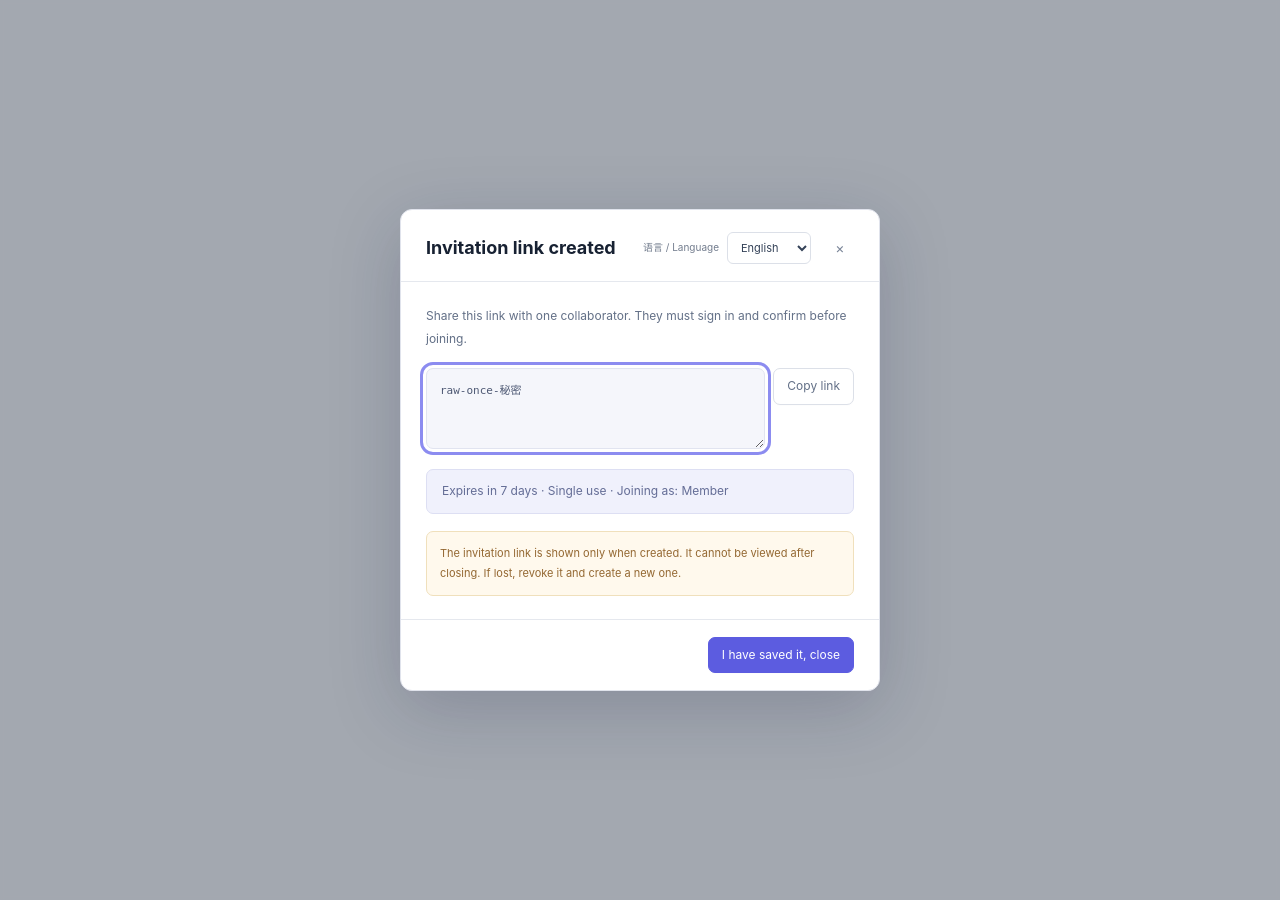
Test: authentication language changes › retranslates invitation copy failures and close warnings while keeping the one-time value
The width and height of the screenshot is (1280, 900).
Click the button "Copy link" at (814, 387), box [773, 368, 854, 405]
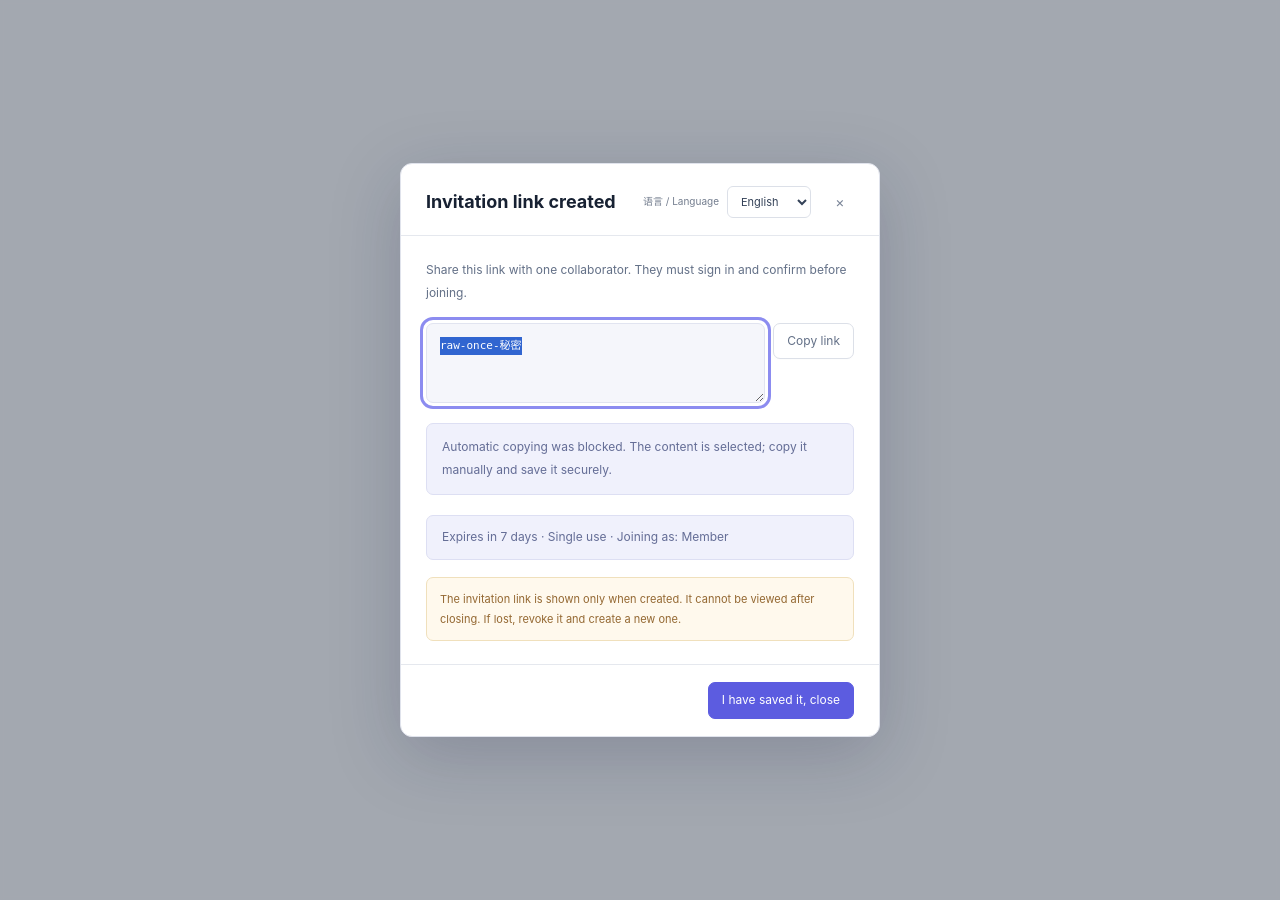
Result: the text "Automatic copying was blocked. The content is selected; copy it manually and save it securely." is shown at [442, 440, 807, 477]
Click the button named "Close dialog" at (840, 202), box [826, 188, 854, 216]
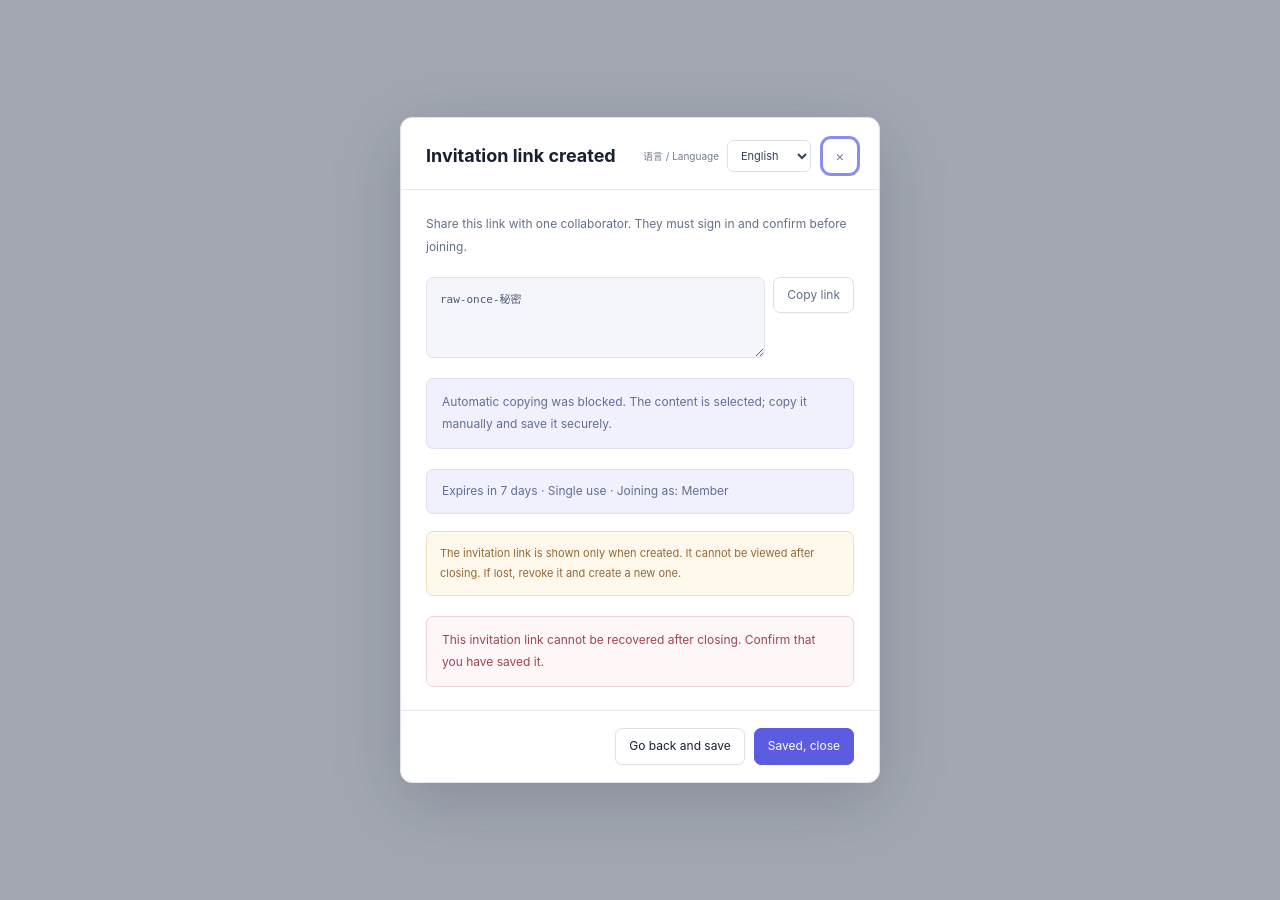
Result: the 2nd message shows "This invitation link cannot be recovered after closing. Confirm that you have saved it." at [442, 632, 815, 669]
Select "简体中文" in the dropdown labelled "语言 / Language" at (769, 156), box [727, 140, 811, 172]
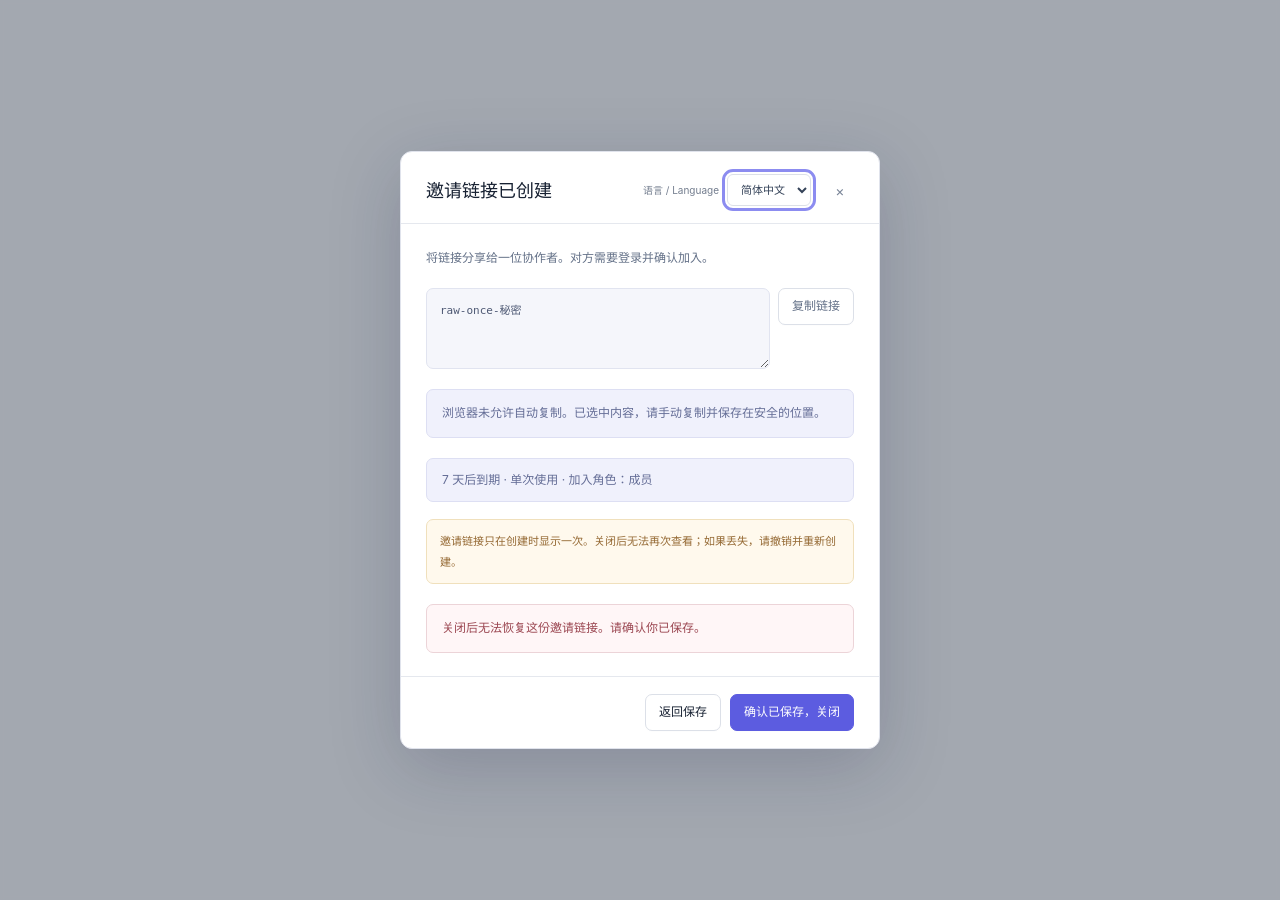
Expected: the text box holds "raw-once-秘密", [426, 288, 770, 369]
Result: the text "浏览器未允许自动复制。已选中内容，请手动复制并保存在安全的位置。" is shown at [426, 389, 854, 438]
Result: the message "关闭后无法恢复这份邀请链接。请确认你已保存。" is shown at [426, 604, 854, 653]
